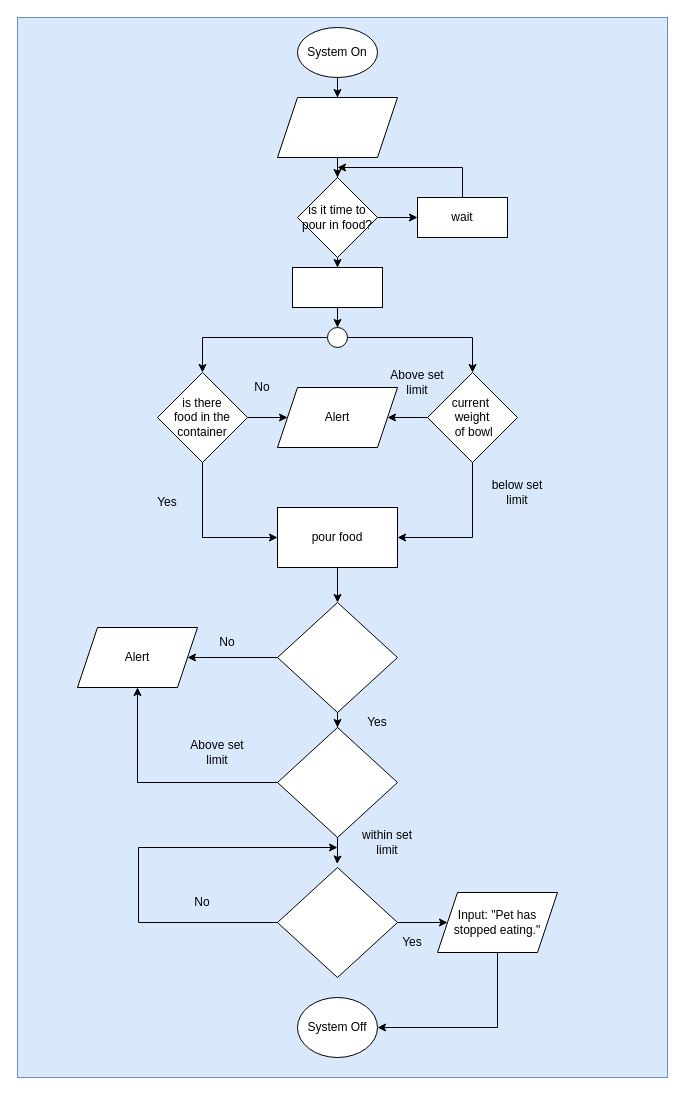
Some shapes in this 685 by 1095 pixel diagram are drawn without their labels. The centre of each missing label's shape, as x and y in pixels:
has the bowl changed weight for more than 10 minutes?: the point at 337,922
how much does the bowl weigh?: the point at 337,782
input schedule and set container: the point at 337,127
Is food pouring?: the point at 337,657
switch to set container: the point at 337,287
